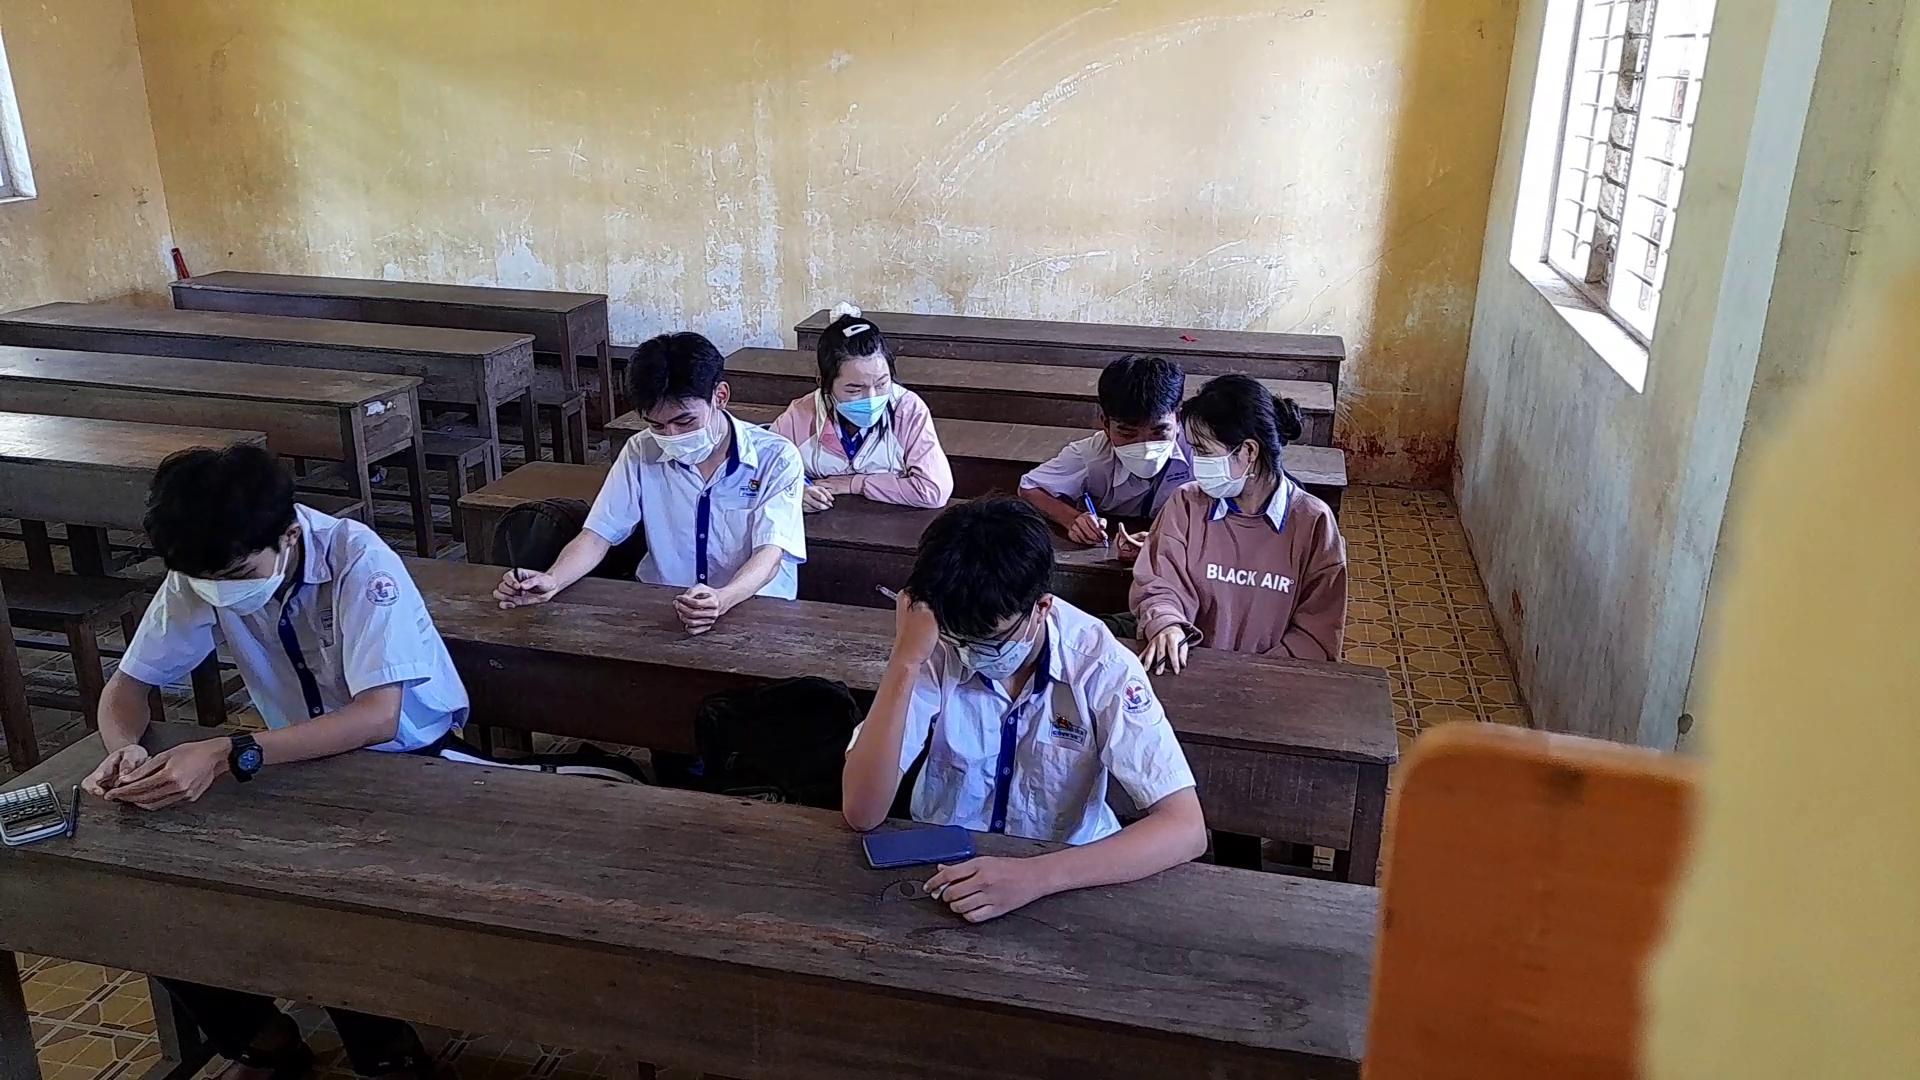Bend Over The Desk: (913, 487, 1065, 684)
Look Around: (1170, 372, 1311, 505), (791, 303, 932, 436)
Normal: (88, 435, 460, 815), (476, 314, 818, 632)
Wave: (833, 568, 939, 825)
